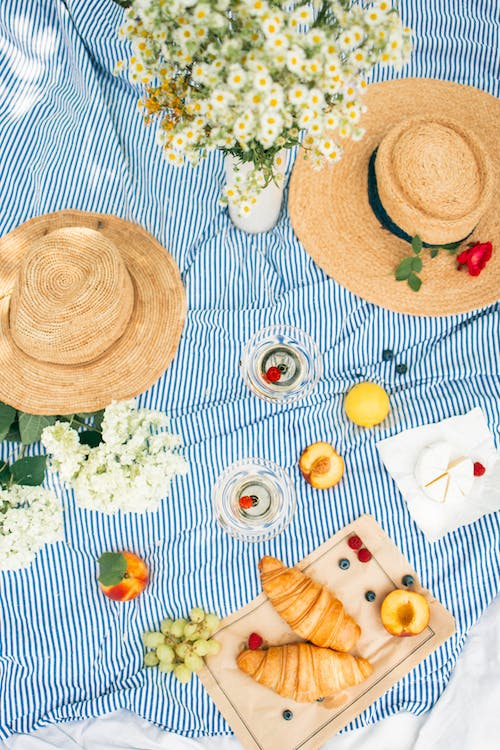alcohol: (211, 455, 298, 544), (239, 324, 323, 407)
